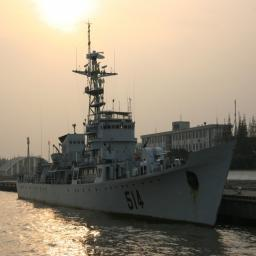Fragata: (16, 2, 242, 231)
